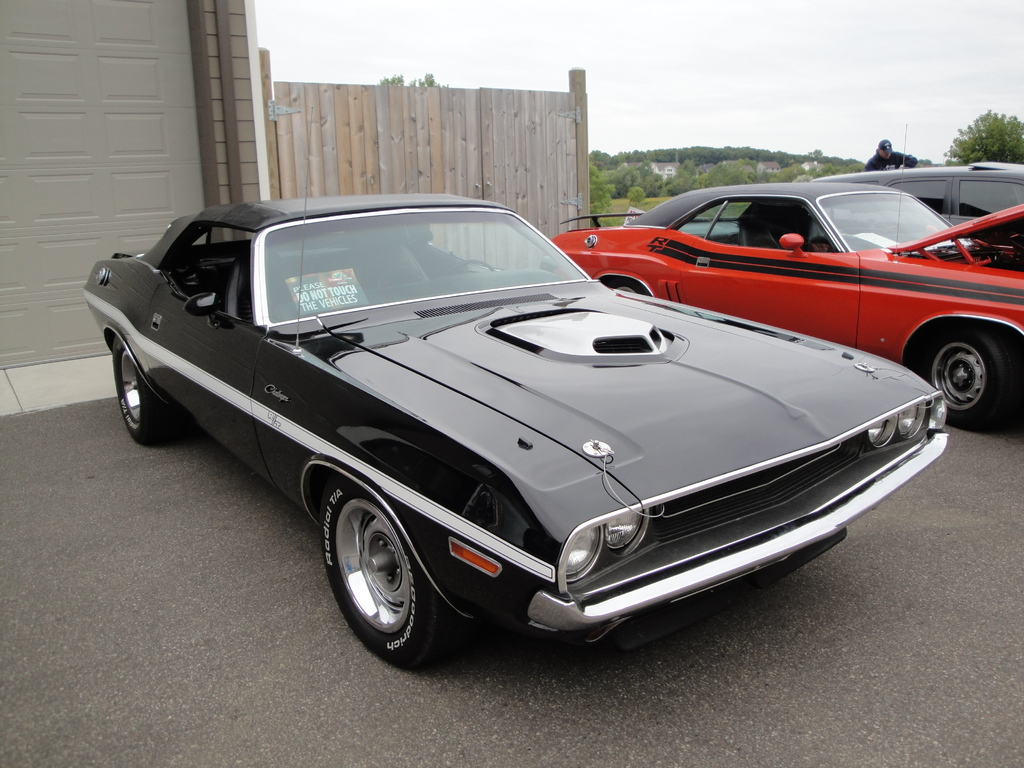Car: (77, 190, 950, 669), (548, 183, 1023, 435), (814, 153, 1023, 238)
